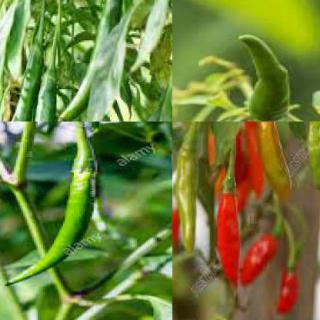green_chilli: (1, 122, 104, 287), (56, 0, 126, 121), (242, 34, 292, 120), (0, 40, 45, 121), (174, 138, 205, 254), (36, 73, 60, 121), (304, 121, 319, 192)
